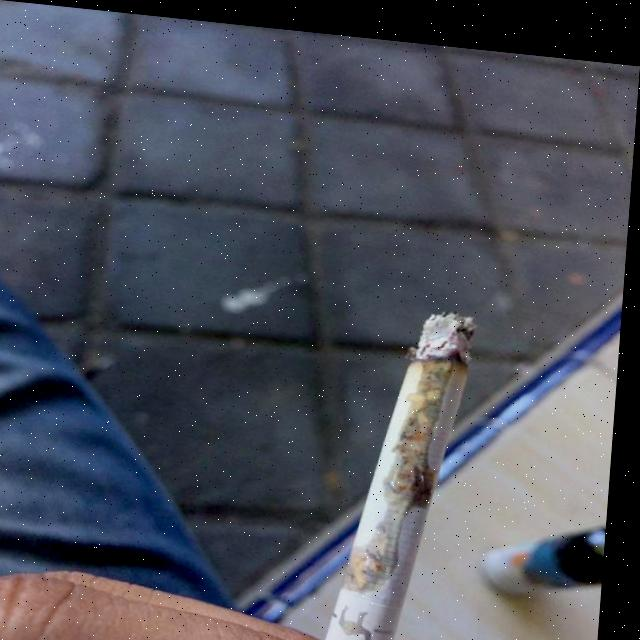cigarette: (330, 294, 483, 640)
